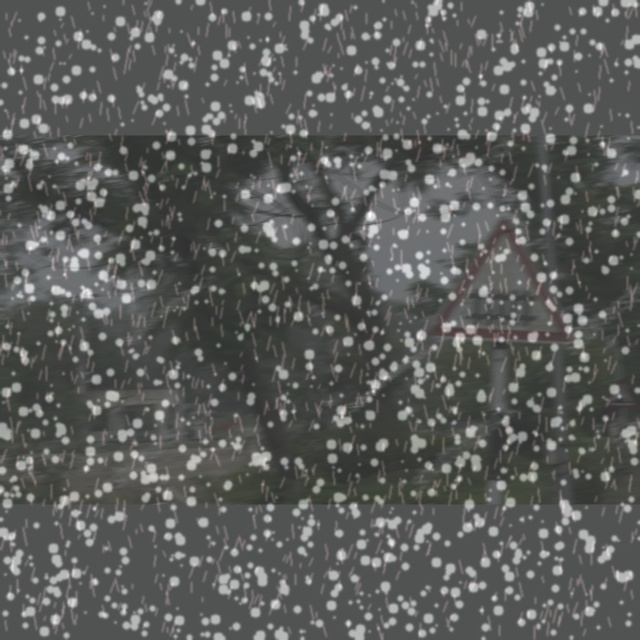Guarded_Level_Crossing: (432, 213, 571, 344)
